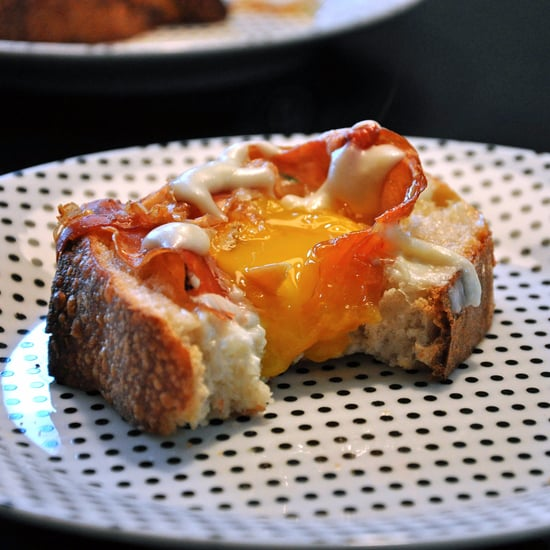fried egg: (198, 172, 376, 304)
slice of bread: (59, 248, 508, 433)
